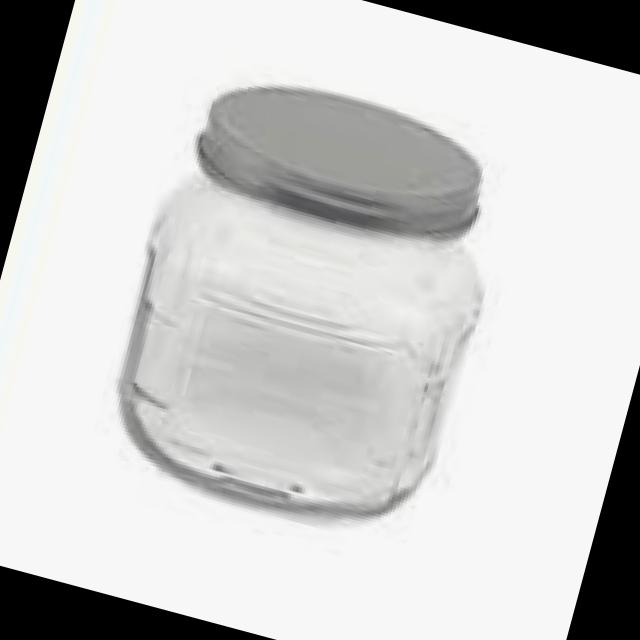ToplesKaca: (88, 51, 531, 546)
